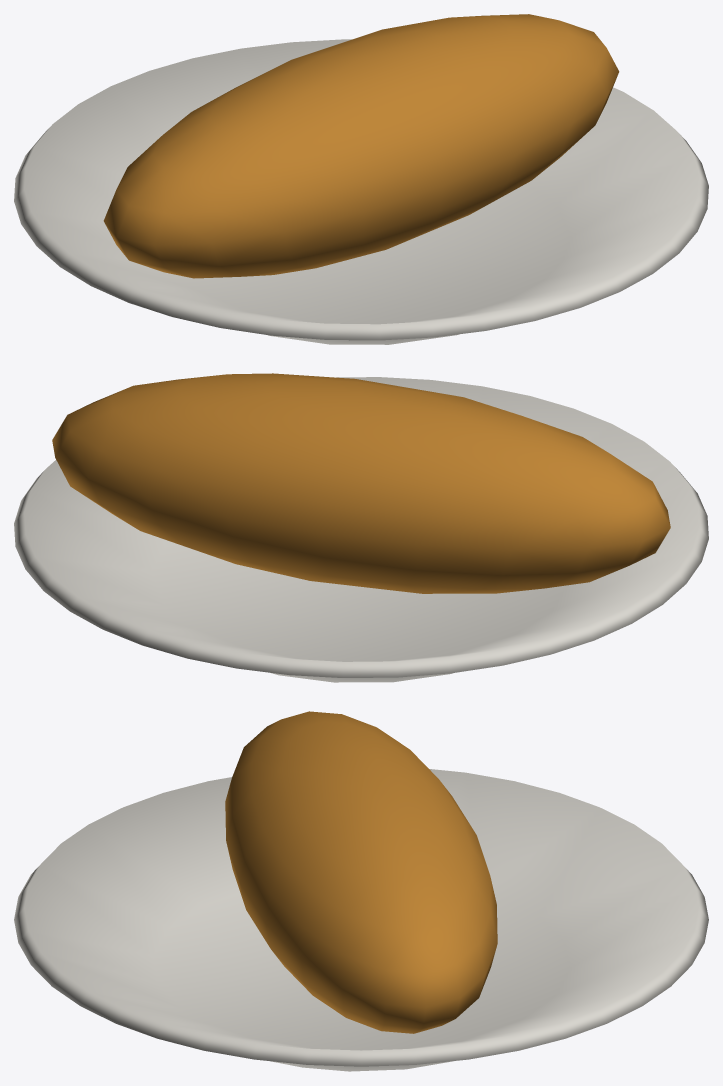
File: dia_banh_mi.glb
3 renders of one model, top to bottom at view 1: azimuth 30°, elevation 25°; view 2: azimuth 150°, elevation 25°; view 3: azimuth 270°, elevation 25°, orthographic.
Visible parts, largest first — view 1: dia_banh_mi; view 2: dia_banh_mi; view 3: dia_banh_mi.
Boxes of the visible parts, x1,y1,x2,y2 form: dia_banh_mi: (14, 14, 708, 344); dia_banh_mi: (14, 373, 708, 682); dia_banh_mi: (14, 711, 708, 1071).
Bounding box in the file's own units: 0.16 × 0.0525 × 0.16.
